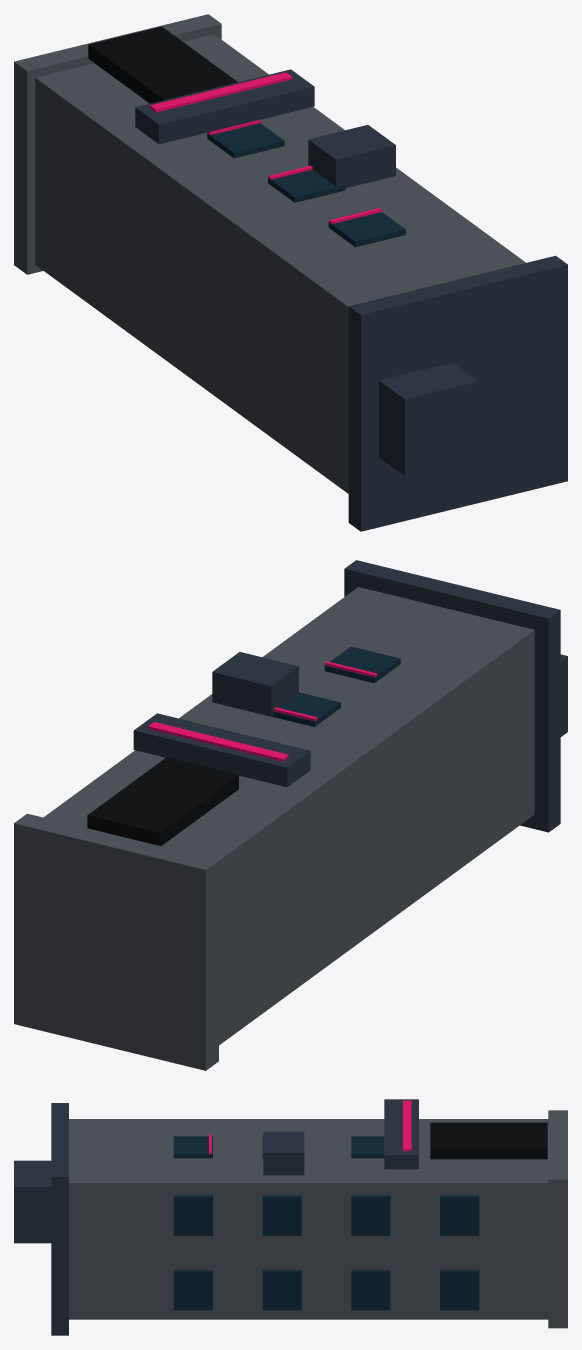
The model's file is ENV_building_stacks.obj.
The picture shows the model from 3 angles, top to bottom: view 1: azimuth 30°, elevation 25°; view 2: azimuth 150°, elevation 25°; view 3: azimuth 270°, elevation 25°; orthographic projection. The views are drawn at different scales.
Parts seen in each view (by area): view 1: ENV_building_stacks; view 2: ENV_building_stacks; view 3: ENV_building_stacks.
Part boxes in pixels (box(x1,y1,x2,y2)): ENV_building_stacks: box(14, 14, 567, 531); ENV_building_stacks: box(14, 560, 567, 1070); ENV_building_stacks: box(14, 1099, 567, 1335).
Size of the model in its own units: 1.97 by 2.16 by 6.24.
